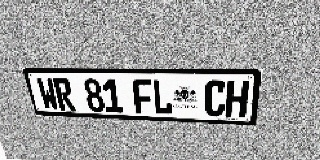1: (101, 79, 123, 113)
8: (83, 78, 105, 112)
C: (204, 80, 227, 117)
F: (132, 79, 154, 114)
H: (225, 80, 250, 118)
L: (152, 79, 173, 115)
R: (52, 78, 76, 111)
W: (36, 78, 60, 110)
